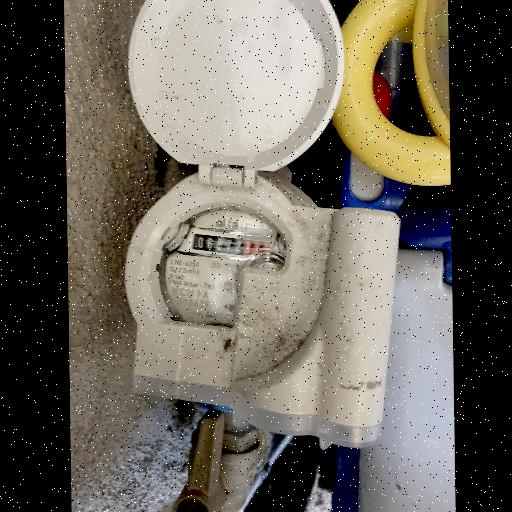0: (195, 234, 206, 251), (263, 242, 271, 249)
1: (252, 240, 261, 254)
2: (234, 239, 244, 256)
3: (243, 239, 252, 255)
6: (205, 235, 214, 252)
7: (224, 237, 234, 254)
8: (214, 237, 224, 254)
border_water_meter_number: (191, 234, 270, 259)
